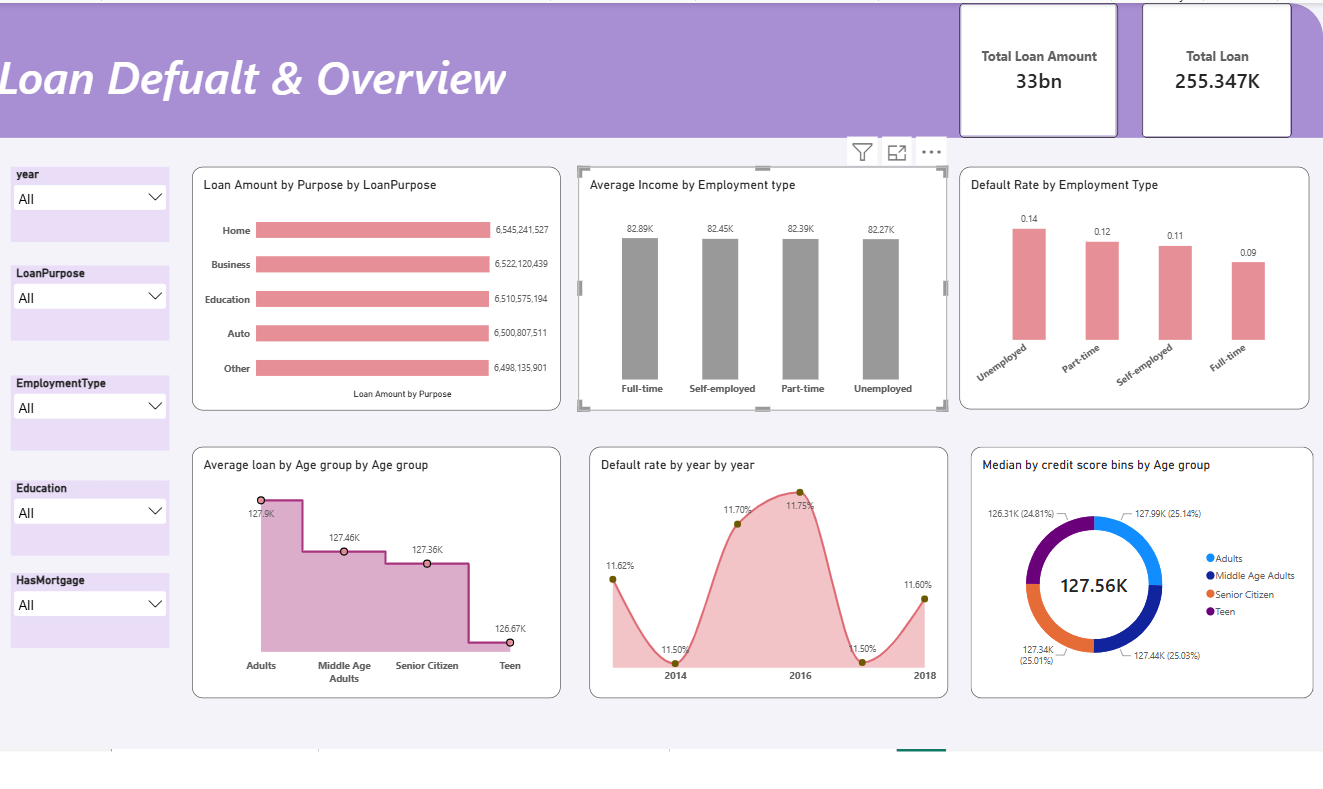

The dashboard page shown, as its layout file describes it:
{"tool":"powerbi","page":{"name":"Loan Analytics Dashboard","canvas":[1920,1080],"ordinal":2},"visuals":[{"type":"shape","box":[0,0,1920.1,195.4],"z":0},{"type":"cardVisual","fields":{"Data":["Sum(Loan_default.LoanAmount)"]},"box":[1393.4,0,229.8,195.4],"z":1000},{"type":"cardVisual","fields":{"Data":["Count(Loan_default.LoanID)"]},"box":[1657.6,0,217.2,195.4],"z":2000},{"type":"clusteredBarChart","title":"Loan Amount by Purpose by LoanPurpose","fields":{"Category":["Loan_default.LoanPurpose"],"Y":["Measure Table1.Loan Amount by Purpose"]},"box":[282.3,237.1,533.8,352.9],"z":3000},{"type":"clusteredColumnChart","title":" Average Income by Employment type","fields":{"Category":["Loan_default.EmploymentType"],"Y":["Measure Table1.Average Income by Employment type"]},"box":[841.5,237.1,533.8,352.9],"z":4000},{"type":"clusteredColumnChart","title":"Default Rate by Employment Type","fields":{"Category":["Loan_default.EmploymentType"],"Y":["Divide(Measure Table1.Default Rate by Employment Type, ScopedEval(Measure Table1.Default Rate by Employment Type, []))"]},"box":[1393.4,237.1,506.7,351.1],"z":5000},{"type":"lineChart","fields":{"Category":["Loan_default.Age group"],"Y":["Measure Table1.Average loan by Age group"]},"box":[282.3,642.4,533.8,363.7],"z":6000},{"type":"lineChart","fields":{"Category":["Loan_default.year"],"Y":["Measure Table1.Default rate by year"]},"box":[857.8,642.4,519.4,363.7],"z":7000},{"type":"donutChart","fields":{"Category":["Loan_default.Age group"],"Y":["Measure Table 2.Median by credit score bins"]},"box":[1409.7,642.4,495.8,363.7],"z":8000},{"type":"slicer","fields":{"Values":["Loan_default.year"]},"box":[19.9,237.1,229.8,108.6],"z":9000},{"type":"slicer","fields":{"Values":["Loan_default.LoanPurpose"]},"box":[19.9,380,229.8,108.6],"z":10000},{"type":"slicer","fields":{"Values":["Loan_default.EmploymentType"]},"box":[19.9,539.3,229.8,108.6],"z":11000},{"type":"slicer","fields":{"Values":["Loan_default.Education"]},"box":[19.9,691.3,229.8,108.6],"z":12000},{"type":"slicer","fields":{"Values":["Loan_default.HasMortgage"]},"box":[19.9,825.2,229.8,108.6],"z":13000}]}

Visuals, with their boxes on the page's 1920x1080 design canvas (x1, y1, x2, y2). These are canvas units, not pixel positions in the 1323x789 screenshot, which may show the page scaled, cropped or inside an application window:
shape: box=[0, 0, 1920, 195]
cardVisual - Sum(Loan_default.LoanAmount): box=[1393, 0, 1623, 195]
cardVisual - Count(Loan_default.LoanID): box=[1658, 0, 1875, 195]
"Loan Amount by Purpose by LoanPurpose" clusteredBarChart: box=[282, 237, 816, 590]
" Average Income by Employment type" clusteredColumnChart: box=[842, 237, 1375, 590]
"Default Rate by Employment Type" clusteredColumnChart: box=[1393, 237, 1900, 588]
lineChart - Loan_default.Age group x Measure Table1.Average loan by Age group: box=[282, 642, 816, 1006]
lineChart - Loan_default.year x Measure Table1.Default rate by year: box=[858, 642, 1377, 1006]
donutChart - Loan_default.Age group x Measure Table 2.Median by credit score bins: box=[1410, 642, 1906, 1006]
slicer - Loan_default.year: box=[20, 237, 250, 346]
slicer - Loan_default.LoanPurpose: box=[20, 380, 250, 489]
slicer - Loan_default.EmploymentType: box=[20, 539, 250, 648]
slicer - Loan_default.Education: box=[20, 691, 250, 800]
slicer - Loan_default.HasMortgage: box=[20, 825, 250, 934]
